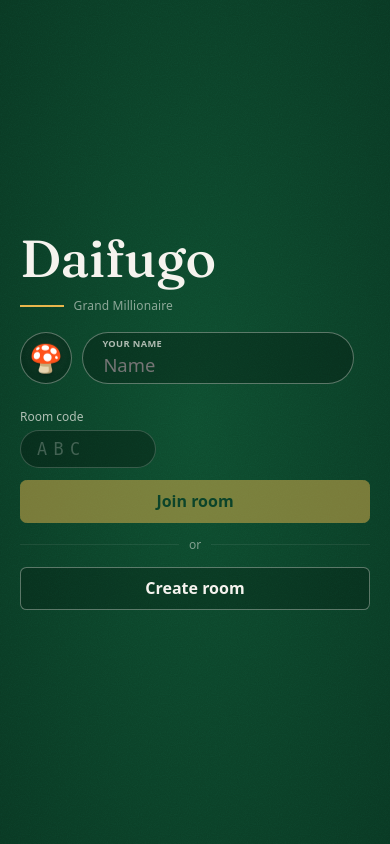
Test: GameTable › shows a reconnecting notice in the clock cell after a mid-round drop
Type "Will" into the field labelled "Your name". click: (218, 358)
box: [82,332,354,384]
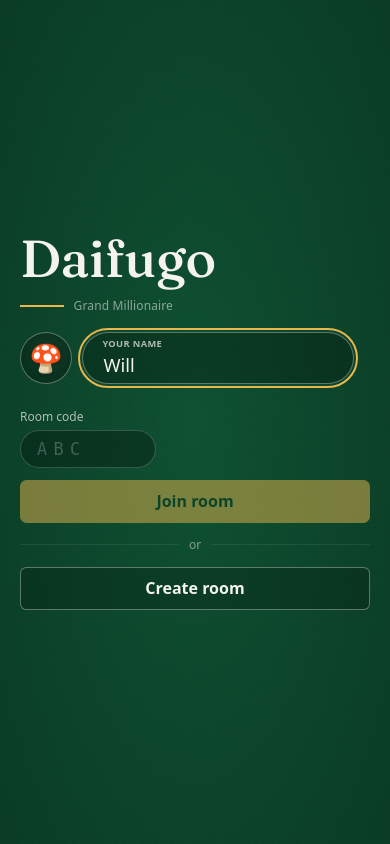
Type "ABC234" into the field labelled "Room code". click: (88, 449)
box: [20,430,156,468]
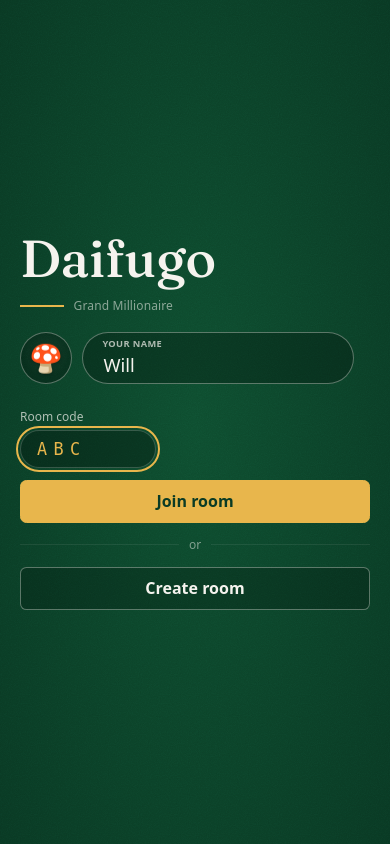
Click the button "Join room". click: (195, 501)
box: [20,480,370,523]
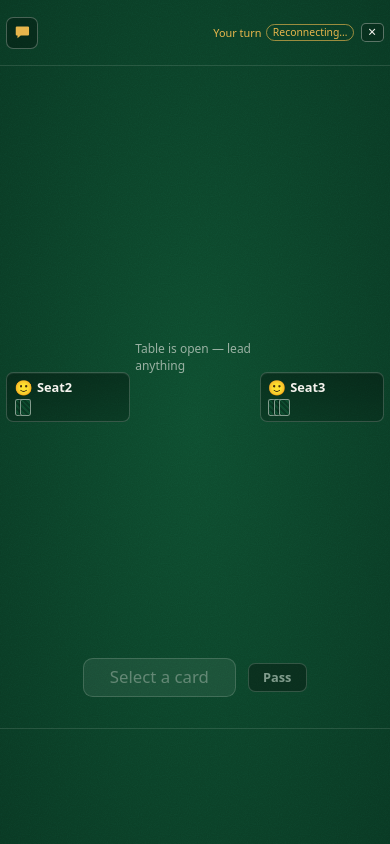
Check: the text "Reconnecting…" is shown, box [266,24,354,41]
